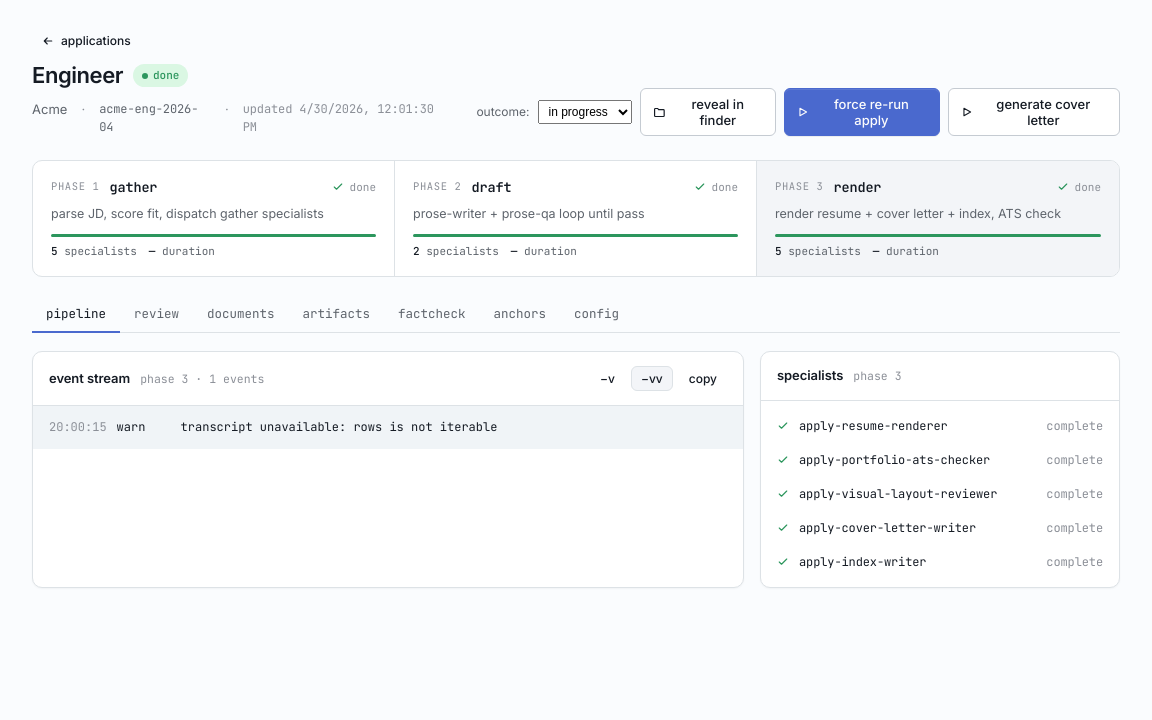
it: ApplicationDetail positive: API artifacts surface in DOM (feat-83d6cf54) › renders an artifact-derived sentinel value in the artifacts tab
This screenshot has width=1152, height=720.
Click the text "artifacts" at (336, 313), box [302, 304, 370, 322]
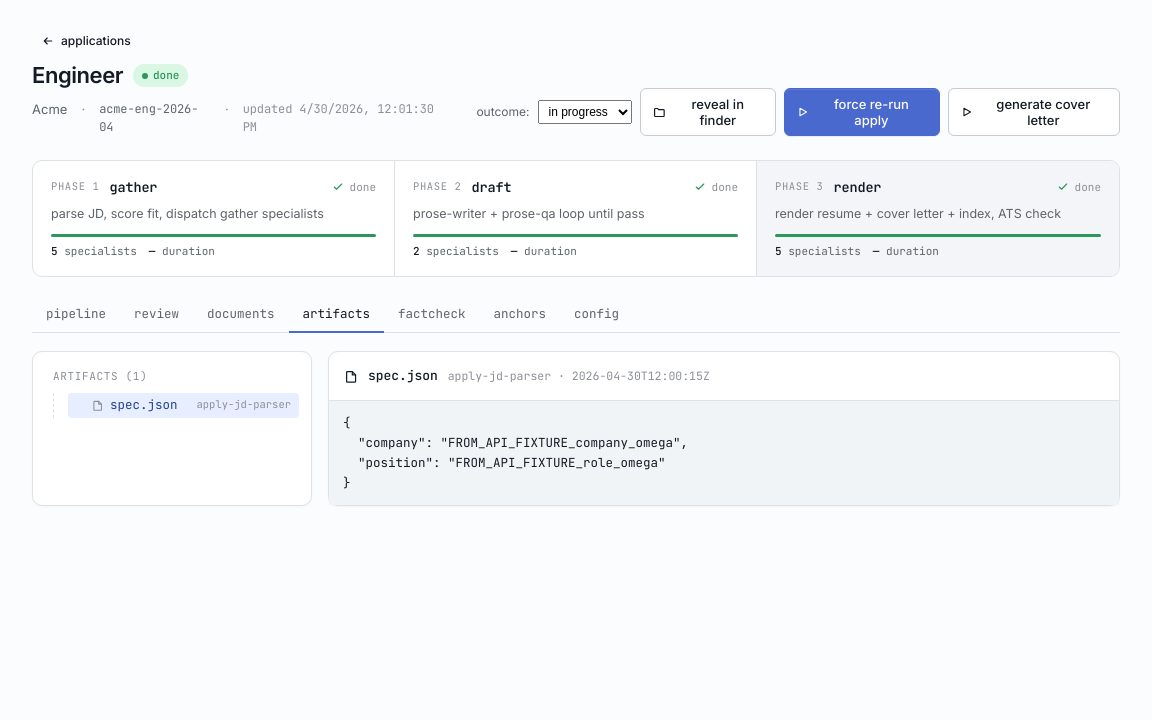
Result: the text "FROM_API_FIXTURE_company_omega" is shown at [343, 414, 688, 491]
